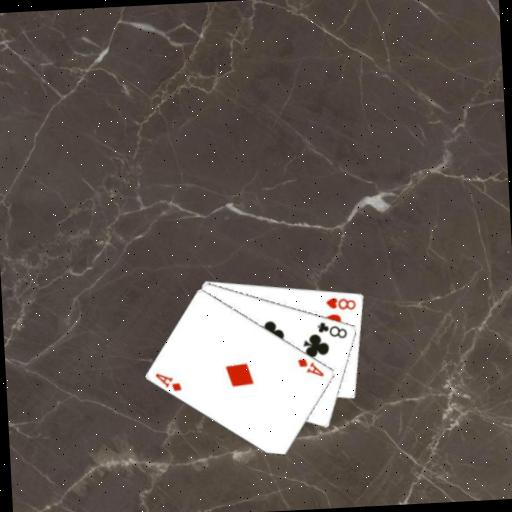8C: (315, 317, 350, 341)
8H: (322, 293, 358, 313)
AD: (295, 355, 326, 380), (153, 369, 184, 394)
